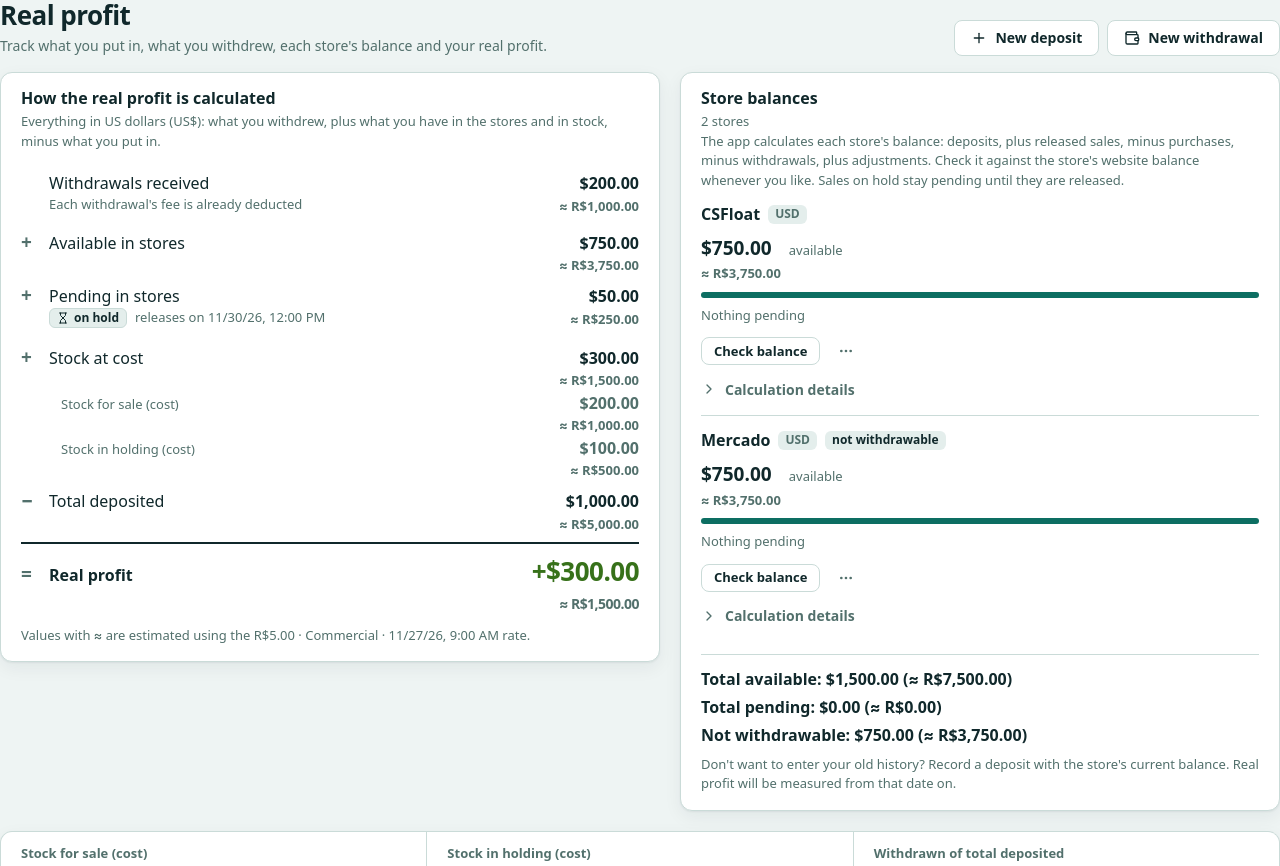
it: página Lucro real (12.7b) › abaixo de 900 px, aporte e saque vão para o Menu da loja
Expected: the text "CSFloat" is shown, [701,202,760,226]
Expected: the button "Record deposit" is not shown
What coordinates should you click on to do the following:
click the button named "More actions for CSFloat"
I would click on:
 (846, 352)
Its box is [828,334,864,370].
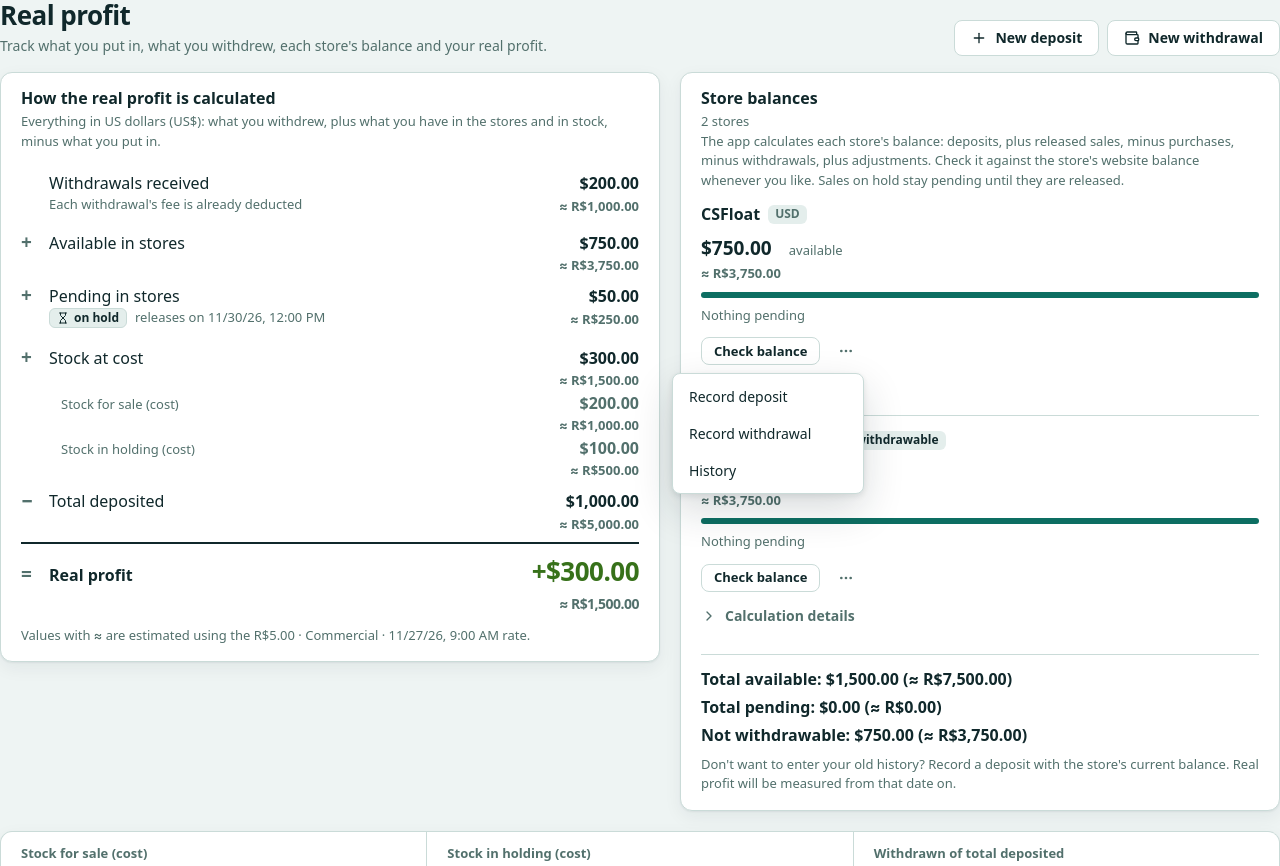
Expected: the menu item "Record deposit" is shown, [689,387,788,406]
What coordinates should you click on to do the following:
click the menu item "Record withdrawal"
I would click on:
 (750, 434)
Its box is [689,424,811,443].
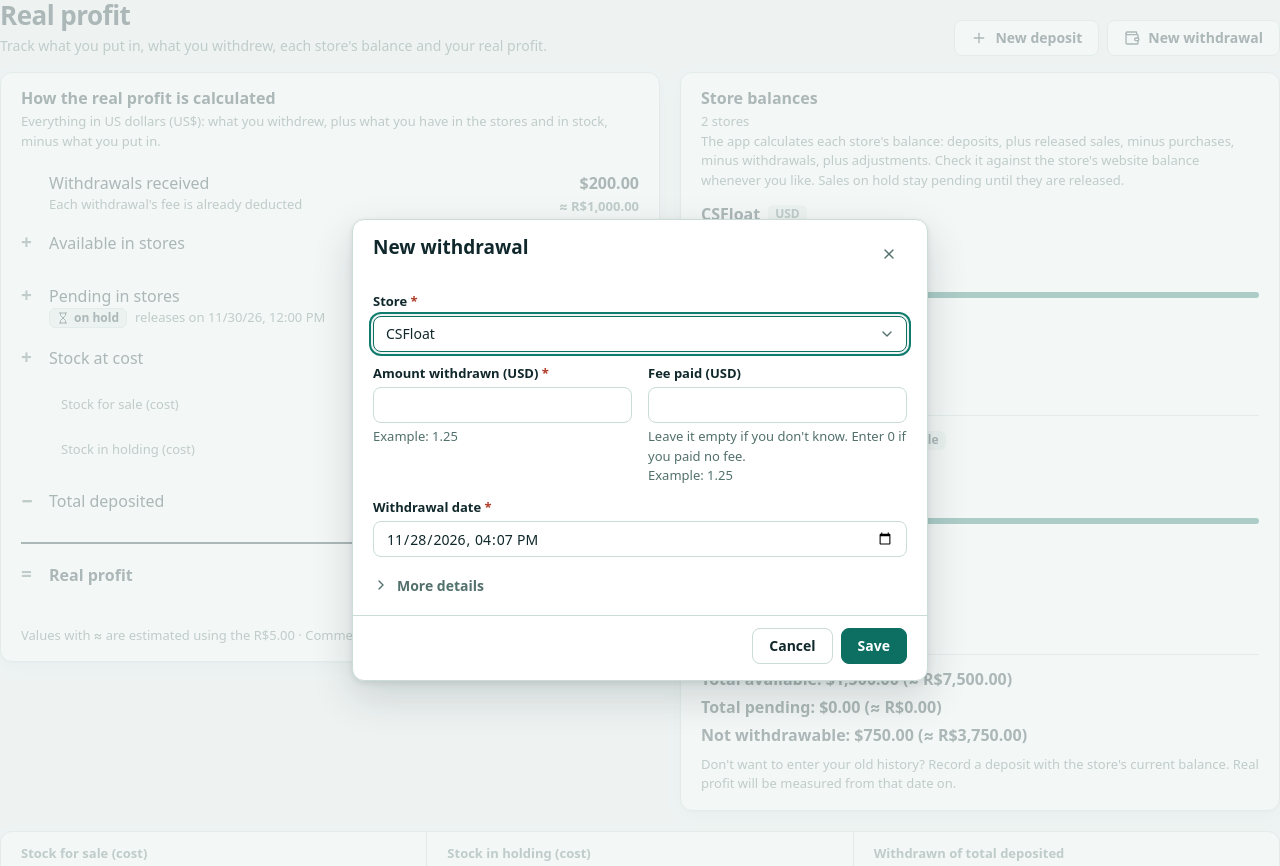
Expected: the dropdown labelled "Store *" shows "CSFloat", [373,316,907,352]
